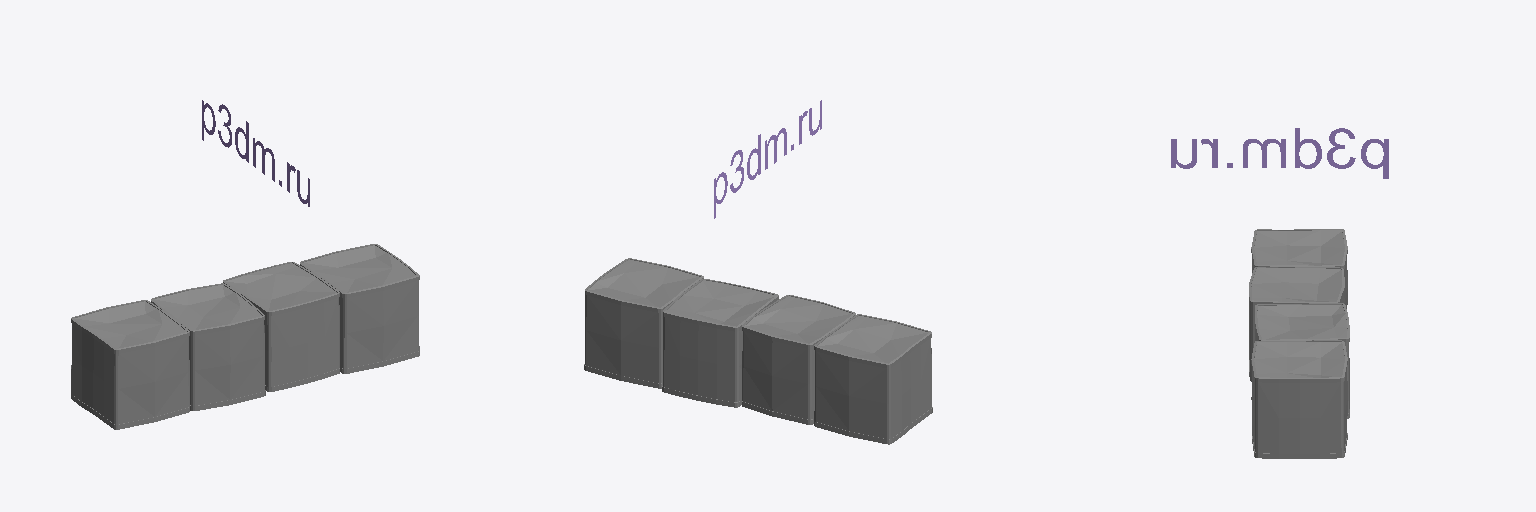
The model's file is PROPS_HescoWall.obj.
The picture shows the model from 3 angles: view 1: azimuth 30°, elevation 25°; view 2: azimuth 150°, elevation 25°; view 3: azimuth 270°, elevation 25°; orthographic projection.
Visible parts, largest first — view 1: SM_ENV_ASL_PROPS_HescoWall_CrouchRow4, Text001; view 2: SM_ENV_ASL_PROPS_HescoWall_CrouchRow4, Text001; view 3: SM_ENV_ASL_PROPS_HescoWall_CrouchRow4, Text001.
Part boxes in pixels (x1,y1,x2,y2): SM_ENV_ASL_PROPS_HescoWall_CrouchRow4: (71,244,419,429); Text001: (202,100,309,206); SM_ENV_ASL_PROPS_HescoWall_CrouchRow4: (584,258,932,444); Text001: (714,100,821,218); SM_ENV_ASL_PROPS_HescoWall_CrouchRow4: (1249,229,1349,458); Text001: (1171,128,1388,178).
Size of the model in its own units: 520 by 411 by 316.